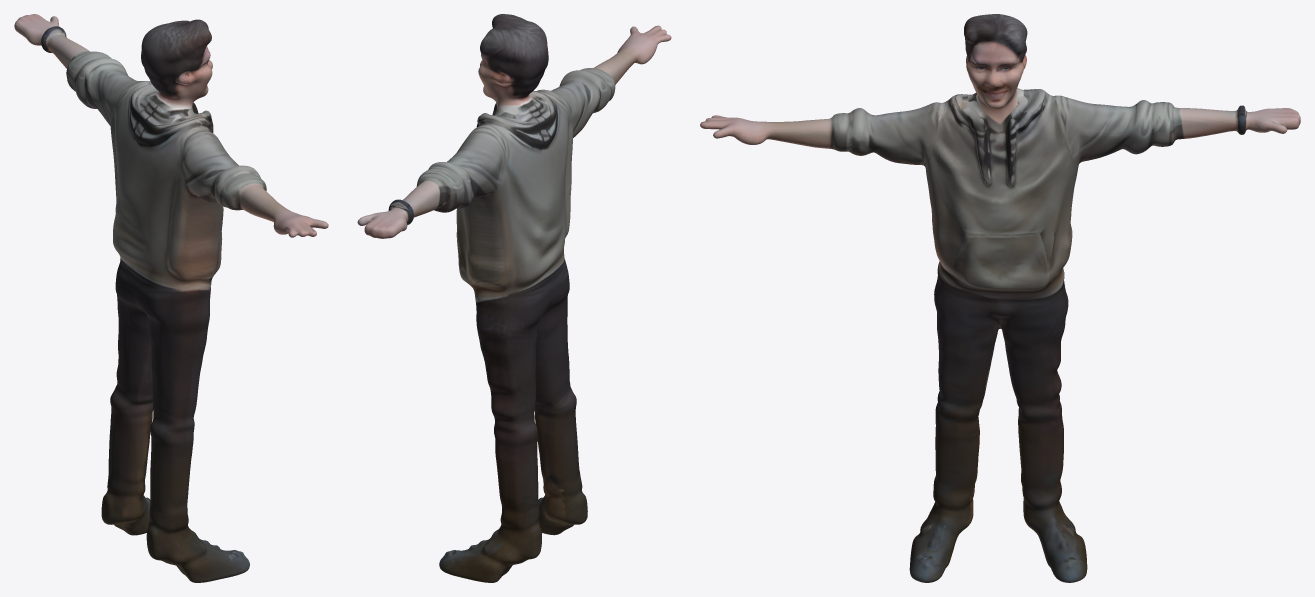
3 views of the same model, side by side, from view 1: azimuth 30°, elevation 25°; view 2: azimuth 150°, elevation 25°; view 3: azimuth 270°, elevation 25° (orthographic). The views are drawn at different scales.
Parts seen in each view (by area): view 1: tripo_node_46ab53d3-a0c8-4fc2-af0e-a3b6700c0830; view 2: tripo_node_46ab53d3-a0c8-4fc2-af0e-a3b6700c0830; view 3: tripo_node_46ab53d3-a0c8-4fc2-af0e-a3b6700c0830.
Part boxes in pixels (<box>): tripo_node_46ab53d3-a0c8-4fc2-af0e-a3b6700c0830: <box>14,14,328,582</box>; tripo_node_46ab53d3-a0c8-4fc2-af0e-a3b6700c0830: <box>357,14,671,582</box>; tripo_node_46ab53d3-a0c8-4fc2-af0e-a3b6700c0830: <box>700,14,1300,582</box>.
Bounding box in the file's own units: 0.1642 × 0.9485 × 0.9393.
Materials: 1 (1 with a texture image).
